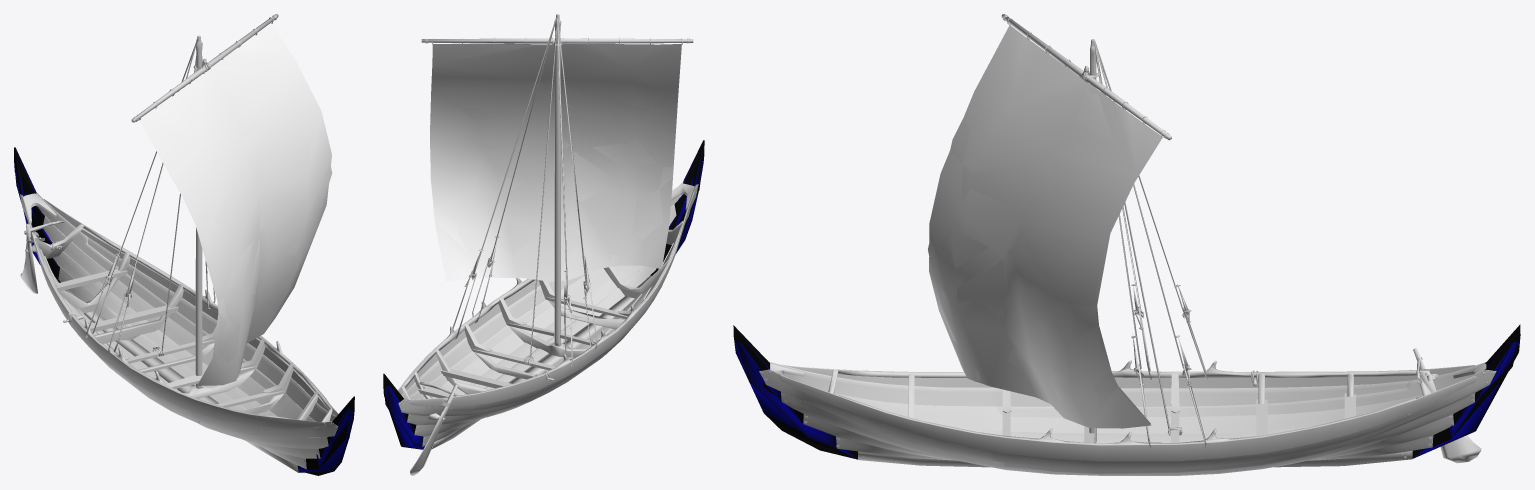
Rendered from Viking_Boat.fbx.
3 views of the same model, side by side, from view 1: azimuth 30°, elevation 25°; view 2: azimuth 150°, elevation 25°; view 3: azimuth 270°, elevation 25° (orthographic). The views are drawn at different scales.
Parts seen in each view (by area): view 1: Boat; view 2: Boat; view 3: Boat.
Part boxes in pixels (x1=…): Boat: x1=14, y1=14, x2=354, y2=475; Boat: x1=383, y1=14, x2=704, y2=475; Boat: x1=733, y1=14, x2=1520, y2=475.
Size of the model in its own units: 314 by 464 by 770.
